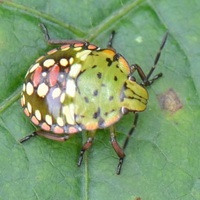insect: (20, 32, 167, 165)
